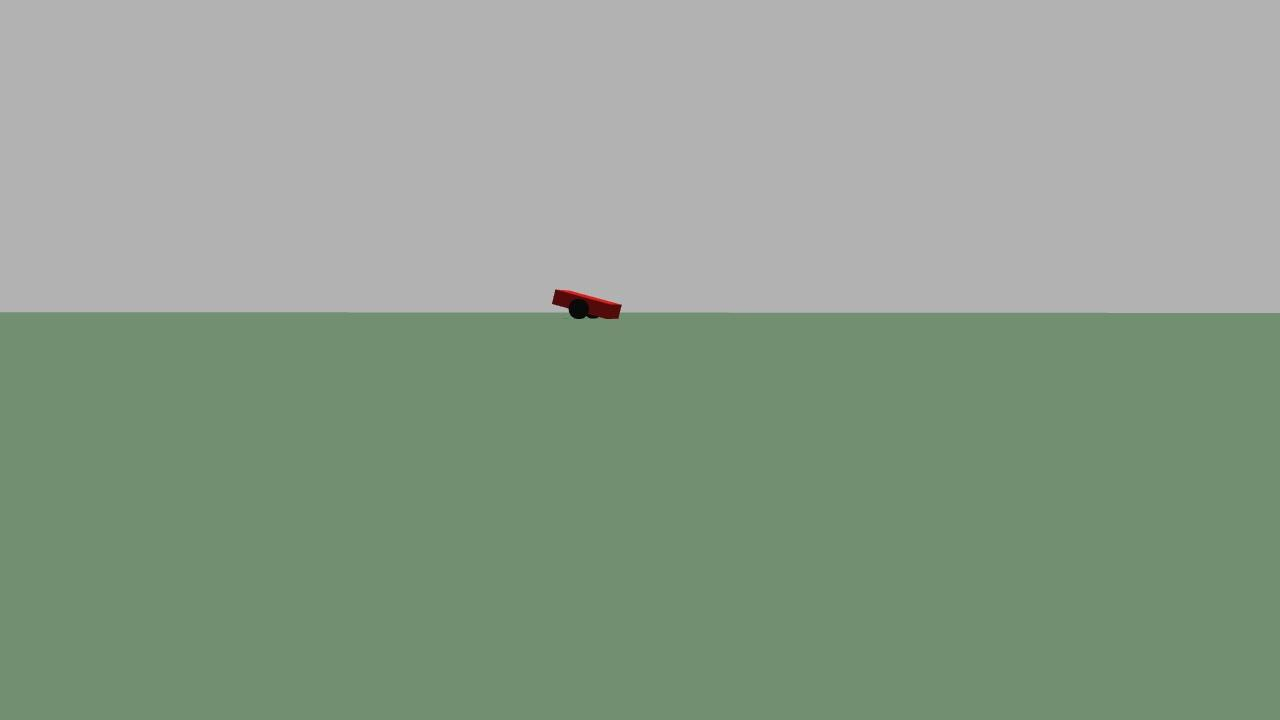ground_vehicle: (537, 269, 635, 332)
